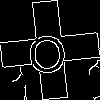O: (25, 25, 68, 75)
